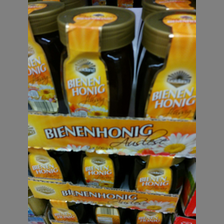honey: (49, 6, 134, 116), (137, 10, 198, 116), (128, 157, 184, 193), (77, 152, 125, 188), (30, 148, 73, 187)
